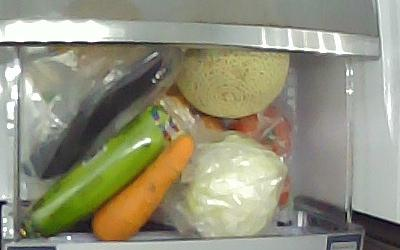cabbage_vinyl: (177, 132, 288, 236)
carrot: (90, 131, 194, 241)
eggplant_vinyl: (21, 46, 171, 179)
melon: (169, 45, 290, 118)
tomato_vinyl: (229, 103, 293, 154)
zucchini: (26, 106, 167, 239)
